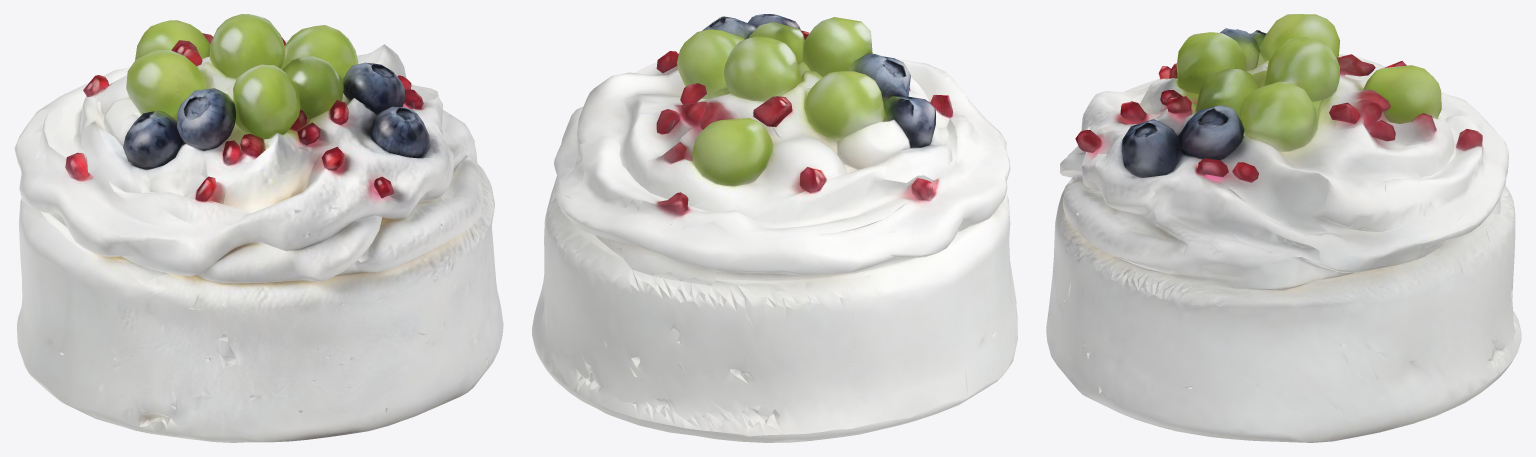
The model's file is cake.glb.
3 renders of one model, left to right at view 1: azimuth 30°, elevation 25°; view 2: azimuth 150°, elevation 25°; view 3: azimuth 270°, elevation 25°, orthographic. The views are drawn at different scales.
Visible parts, largest first — view 1: model; view 2: model; view 3: model.
Boxes of the visible parts, bbox=[...] form: model: bbox=[14, 14, 503, 442]; model: bbox=[532, 14, 1017, 442]; model: bbox=[1046, 14, 1521, 442].
Bounding box in the file's own units: 1.9 × 1.35 × 1.9.
1 material, 1 textured.
